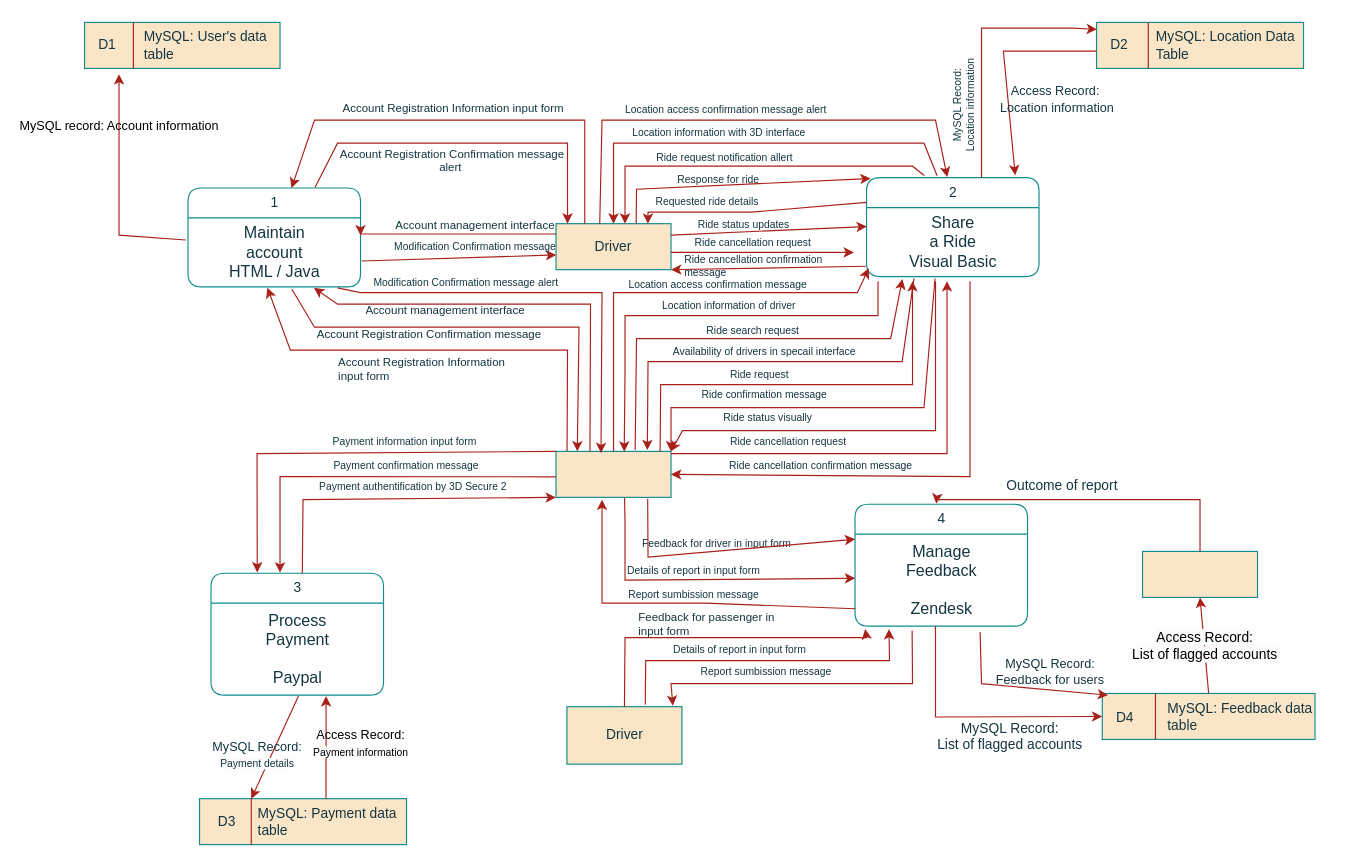
Some shapes in this 1347 by 866 pixel diagram are drawn without their labels. The centre of each missing label's shape, as x and y in pixels:
Administrator: point 1199,573
Passenger: point 613,473
